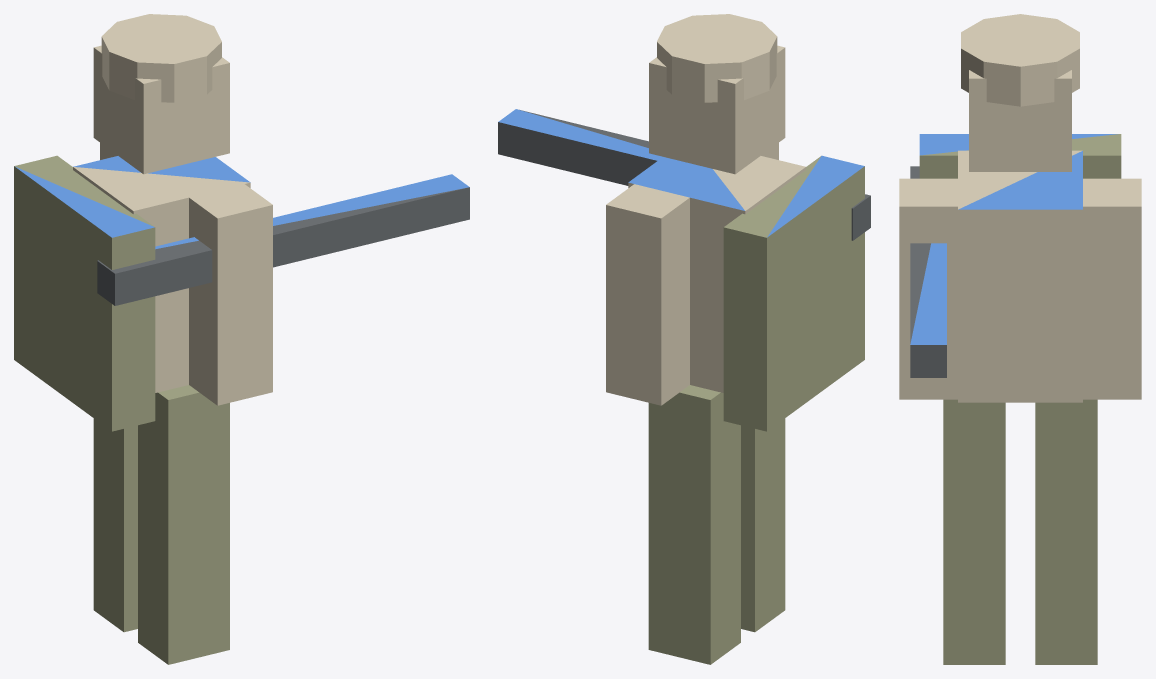
The model's file is meridian_sniper.glb.
The picture shows the model from 3 angles, left to right: view 1: azimuth 30°, elevation 25°; view 2: azimuth 150°, elevation 25°; view 3: azimuth 270°, elevation 25°; orthographic projection. The views are drawn at different scales.
Parts seen in each view (by area): view 1: torso, arm_r, leg_r, head, leg_l; view 2: torso, leg_l, head, arm_l, leg_r, arm_r; view 3: torso, head, leg_l, leg_r, arm_r, arm_l.
Part boxes in pixels (x1,y1,x2,y2): torso: (14,155,250,431); arm_r: (97,174,469,405); leg_r: (138,385,229,664); head: (93,14,229,174); leg_l: (93,418,137,632); torso: (628,155,864,431); leg_l: (648,385,740,664); head: (649,14,785,174); arm_l: (606,184,689,405); leg_r: (741,418,785,632); arm_r: (498,109,870,240); torso: (919,134,1121,402); head: (961,14,1079,171); leg_l: (1035,399,1097,664); leg_r: (943,399,1005,664); arm_r: (899,166,957,399); arm_l: (1083,178,1141,399).
Bounding box in the file's own units: 1.15 × 1.83 × 0.66.
